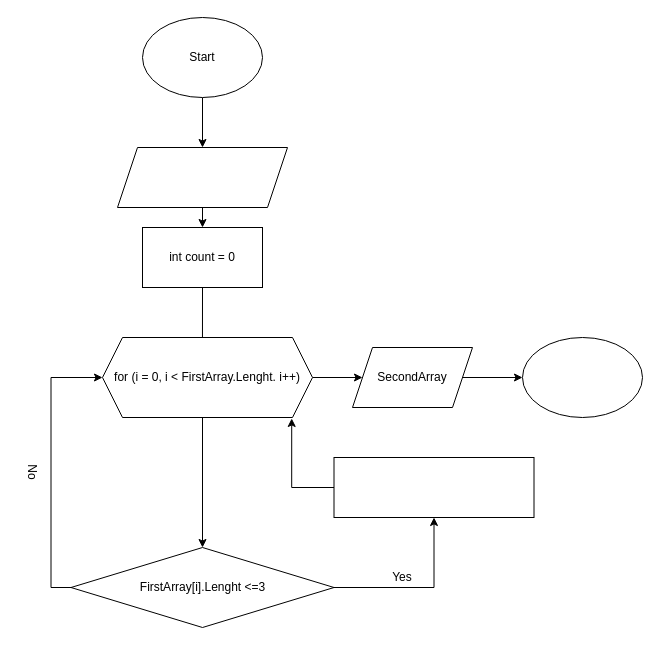
Image size: 660x645. Some labels were removed from this diagram. The shapes that lost their labels are listed below. From the top down, each one's centre as x and y in pixels, then its label:
At point (202, 177): "string[]FirstArray string[]SecondArray".
At point (582, 377): "Finish".
At point (433, 487): "SecondArray[count] = FirstArray[i] count = count + 1".
